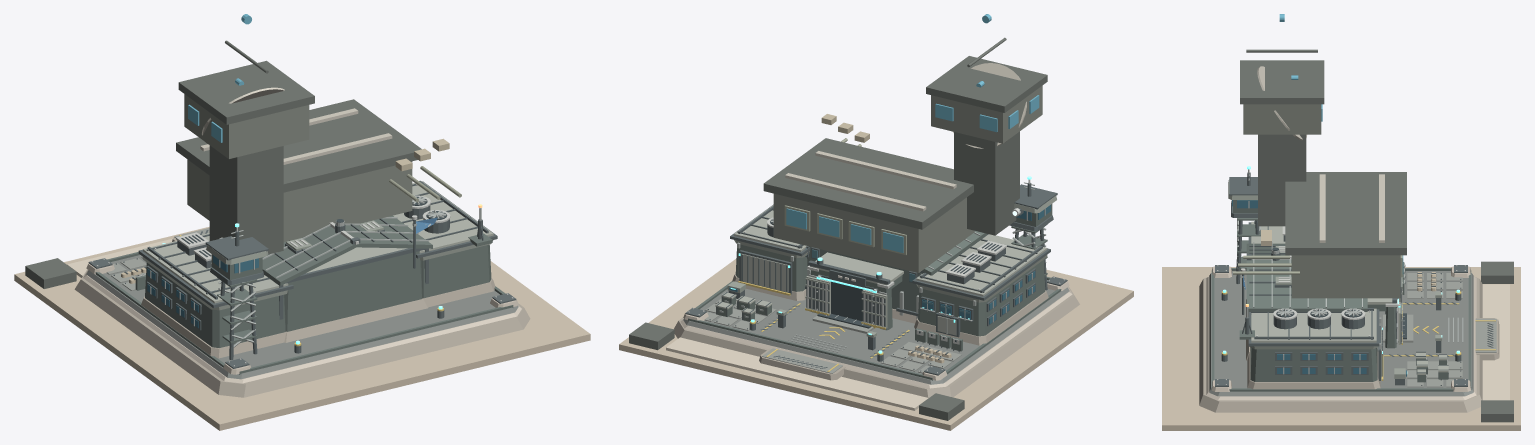
File: sandforge_feldkommando.glb
3 renders of one model, left to right at view 1: azimuth 30°, elevation 25°; view 2: azimuth 150°, elevation 25°; view 3: azimuth 270°, elevation 25°, orthographic. The views are drawn at different scales.
Parts seen in each view (by area): view 1: static__olive_dark, HQ_ExpandedFoundation, static__foundation, static__steel_dark, static__deck, HQ_OperationsRoof, HQ_OperationsDeck, HQ_RadarShaft, HQ_CommandTowerRoof, static__olive_light, HQ_CommandTowerCab, static__concrete_high (+8 smaller); view 2: HQ_ExpandedFoundation, HQ_OperationsRoof, static__olive_dark, static__steel_dark, static__deck, HQ_OperationsDeck, static__foundation, static__olive_light, HQ_RadarShaft, HQ_ArmouredFrontApron, HQ_CommandTowerRoof, static__deck_light (+12 smaller); view 3: HQ_ExpandedFoundation, static__deck, static__olive_dark, HQ_OperationsRoof, static__foundation, static__steel_dark, HQ_OperationsDeck, HQ_CommandTowerRoof, HQ_RadarShaft, static__olive_light, static__deck_light, static__concrete_high (+11 smaller).
Boxes of the visible parts, x1=… form: static__olive_dark: x1=95, y1=215, x2=513, y2=374; HQ_ExpandedFoundation: x1=14, y1=226, x2=590, y2=430; static__foundation: x1=74, y1=227, x2=530, y2=397; static__steel_dark: x1=88, y1=180, x2=516, y2=368; static__deck: x1=86, y1=255, x2=518, y2=379; HQ_OperationsRoof: x1=176, y1=99, x2=421, y2=192; HQ_OperationsDeck: x1=187, y1=159, x2=412, y2=241; HQ_RadarShaft: x1=209, y1=145, x2=283, y2=254; HQ_CommandTowerRoof: x1=178, y1=60, x2=314, y2=124; static__olive_light: x1=143, y1=181, x2=493, y2=303; HQ_CommandTowerCab: x1=184, y1=94, x2=309, y2=158; static__concrete_high: x1=83, y1=263, x2=521, y2=383; HQ_ExpandedFoundation: x1=619, y1=259, x2=1133, y2=430; HQ_OperationsRoof: x1=763, y1=138, x2=973, y2=229; static__olive_dark: x1=688, y1=204, x2=1061, y2=380; static__steel_dark: x1=685, y1=183, x2=1067, y2=375; static__deck: x1=683, y1=280, x2=1069, y2=384; HQ_OperationsDeck: x1=773, y1=193, x2=974, y2=272; static__foundation: x1=674, y1=274, x2=1079, y2=397; static__olive_light: x1=715, y1=205, x2=1047, y2=335; HQ_RadarShaft: x1=954, y1=131, x2=1019, y2=235; HQ_ArmouredFrontApron: x1=666, y1=337, x2=928, y2=410; HQ_CommandTowerRoof: x1=926, y1=56, x2=1047, y2=112; static__deck_light: x1=704, y1=298, x2=961, y2=373; HQ_ExpandedFoundation: x1=1162, y1=267, x2=1520, y2=430; static__deck: x1=1209, y1=271, x2=1473, y2=396; static__olive_dark: x1=1211, y1=200, x2=1471, y2=391; HQ_OperationsRoof: x1=1285, y1=172, x2=1406, y2=255; static__foundation: x1=1199, y1=276, x2=1499, y2=412; static__steel_dark: x1=1215, y1=172, x2=1493, y2=386; HQ_OperationsDeck: x1=1291, y1=255, x2=1400, y2=298; HQ_CommandTowerRoof: x1=1240, y1=60, x2=1324, y2=104; HQ_RadarShaft: x1=1258, y1=134, x2=1306, y2=226; static__olive_light: x1=1251, y1=221, x2=1448, y2=377; static__deck_light: x1=1383, y1=273, x2=1496, y2=387; static__concrete_high: x1=1206, y1=266, x2=1476, y2=400.
Bounding box in the file's own units: 24 × 21.16 × 23.
